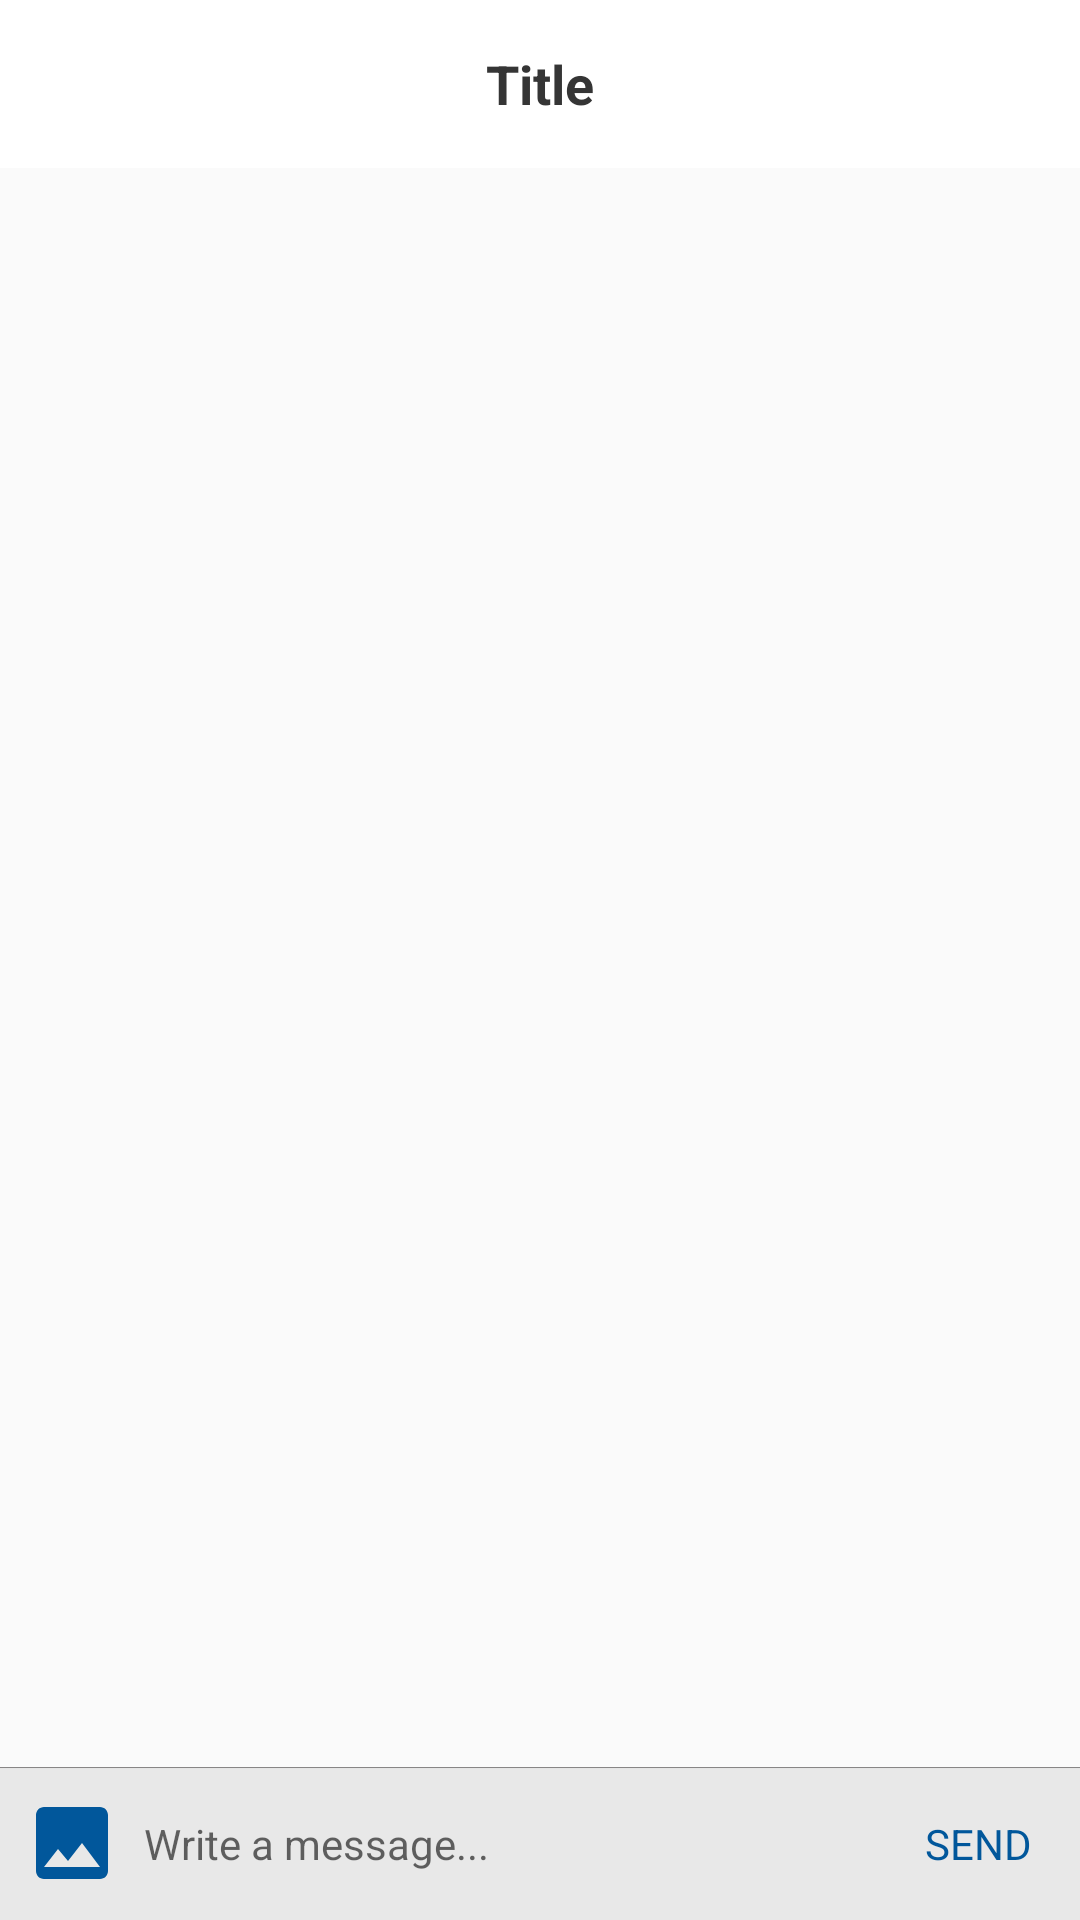

Icons on this 1080px x 1920px Android screen, each with its box as detection(x1, y1, x2, y2):
selectimage: detection(36, 1807, 108, 1879)
